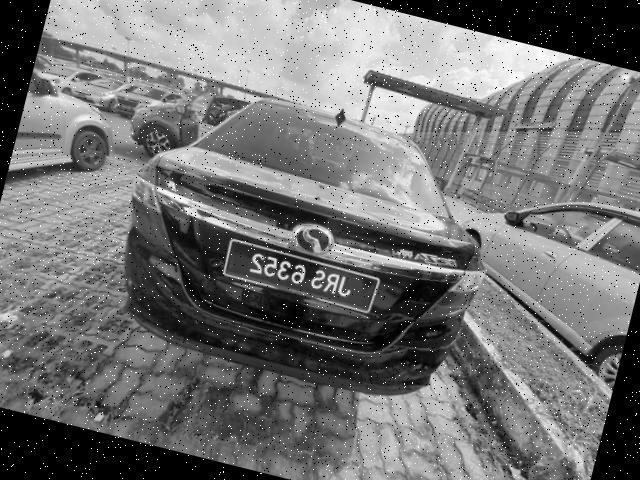License_Plate: (220, 238, 381, 316)
car: (97, 66, 516, 418)
